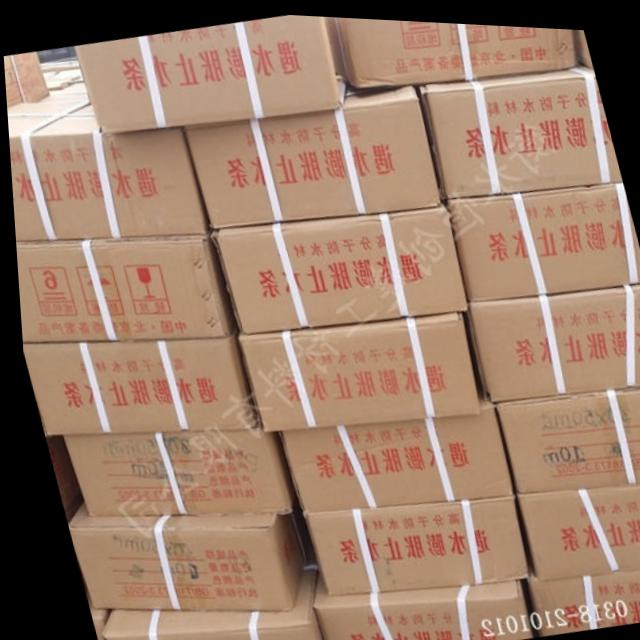box: (180, 82, 439, 227), (205, 199, 464, 334), (74, 12, 349, 135), (232, 309, 477, 432), (6, 99, 205, 241), (419, 62, 621, 193), (276, 398, 509, 510), (61, 504, 298, 609), (443, 176, 640, 298), (13, 234, 229, 345), (18, 336, 252, 436), (297, 491, 523, 592), (463, 278, 640, 397), (59, 427, 288, 516), (94, 566, 316, 640), (338, 14, 576, 83), (488, 382, 640, 489), (305, 571, 526, 640), (513, 476, 640, 577), (521, 565, 640, 631), (3, 52, 48, 109), (81, 607, 99, 640)
